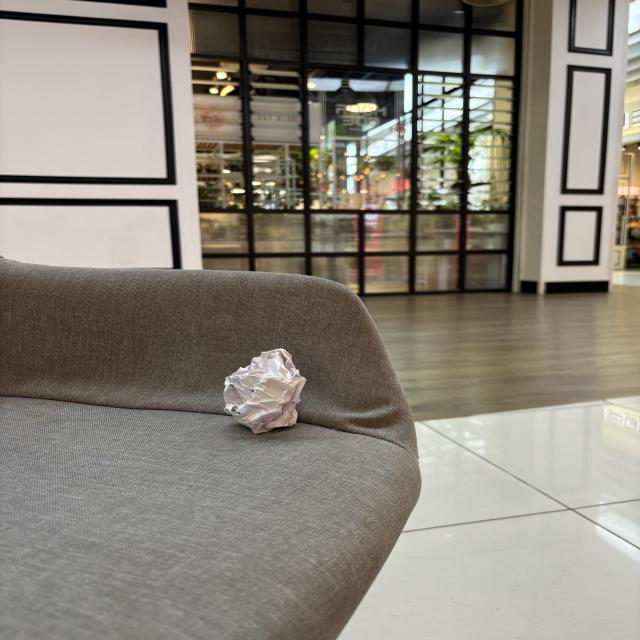crumpled_paper: (220, 346, 310, 439)
